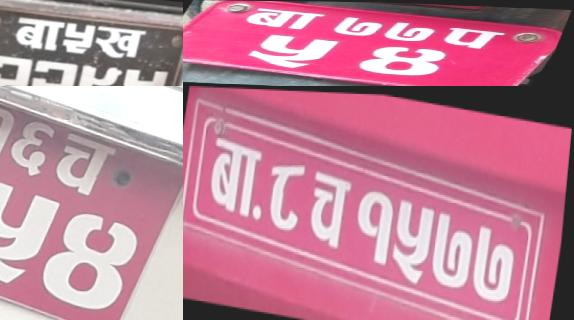1: (351, 181, 400, 271), (0, 95, 22, 171)
2: (27, 54, 83, 86), (0, 49, 39, 86)
4: (43, 196, 153, 310), (360, 44, 457, 76)
5: (0, 170, 71, 283), (388, 183, 443, 286), (246, 33, 346, 69), (59, 16, 100, 59), (118, 64, 172, 86)
6: (7, 106, 65, 181)
7: (468, 215, 528, 320), (430, 202, 482, 298), (383, 21, 442, 40), (332, 16, 389, 35)
8: (263, 150, 312, 237)
9: (75, 59, 127, 86)
ba: (204, 130, 266, 222), (9, 12, 69, 57), (240, 7, 330, 30)
cha: (52, 121, 127, 199), (305, 164, 356, 254)
kha: (90, 20, 151, 65)
pa: (438, 26, 509, 49)
